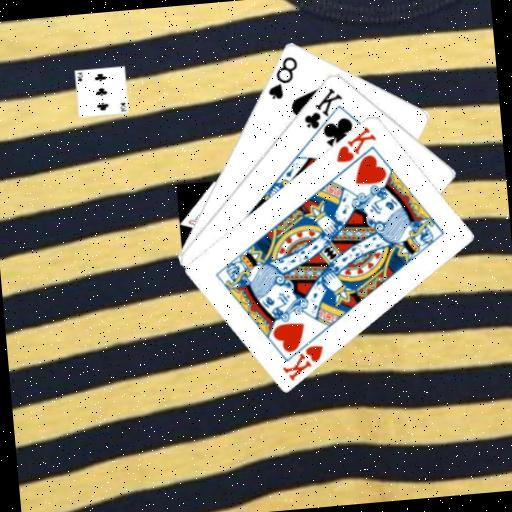8S: (261, 52, 302, 102)
KC: (298, 83, 348, 141)
KH: (331, 122, 380, 165), (278, 341, 329, 382)
